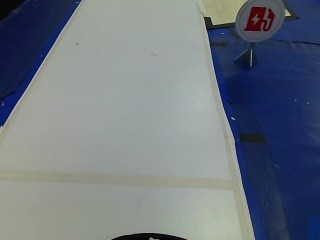battery: (236, 1, 281, 40)
